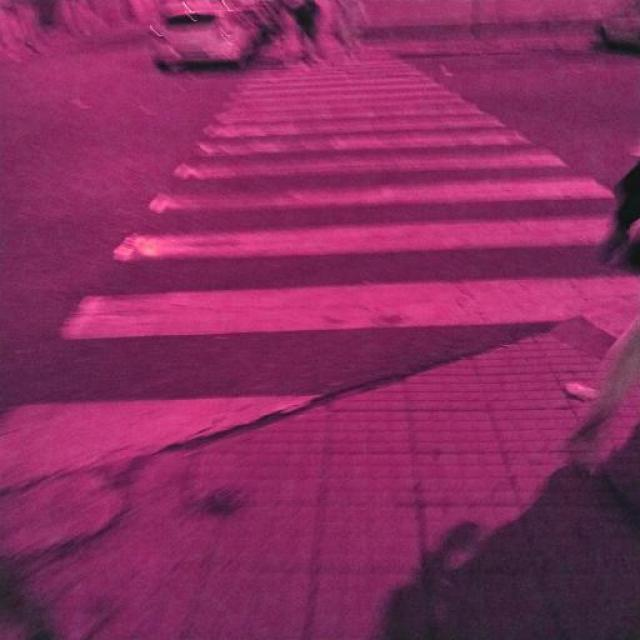crosswalk: (59, 58, 640, 335)
